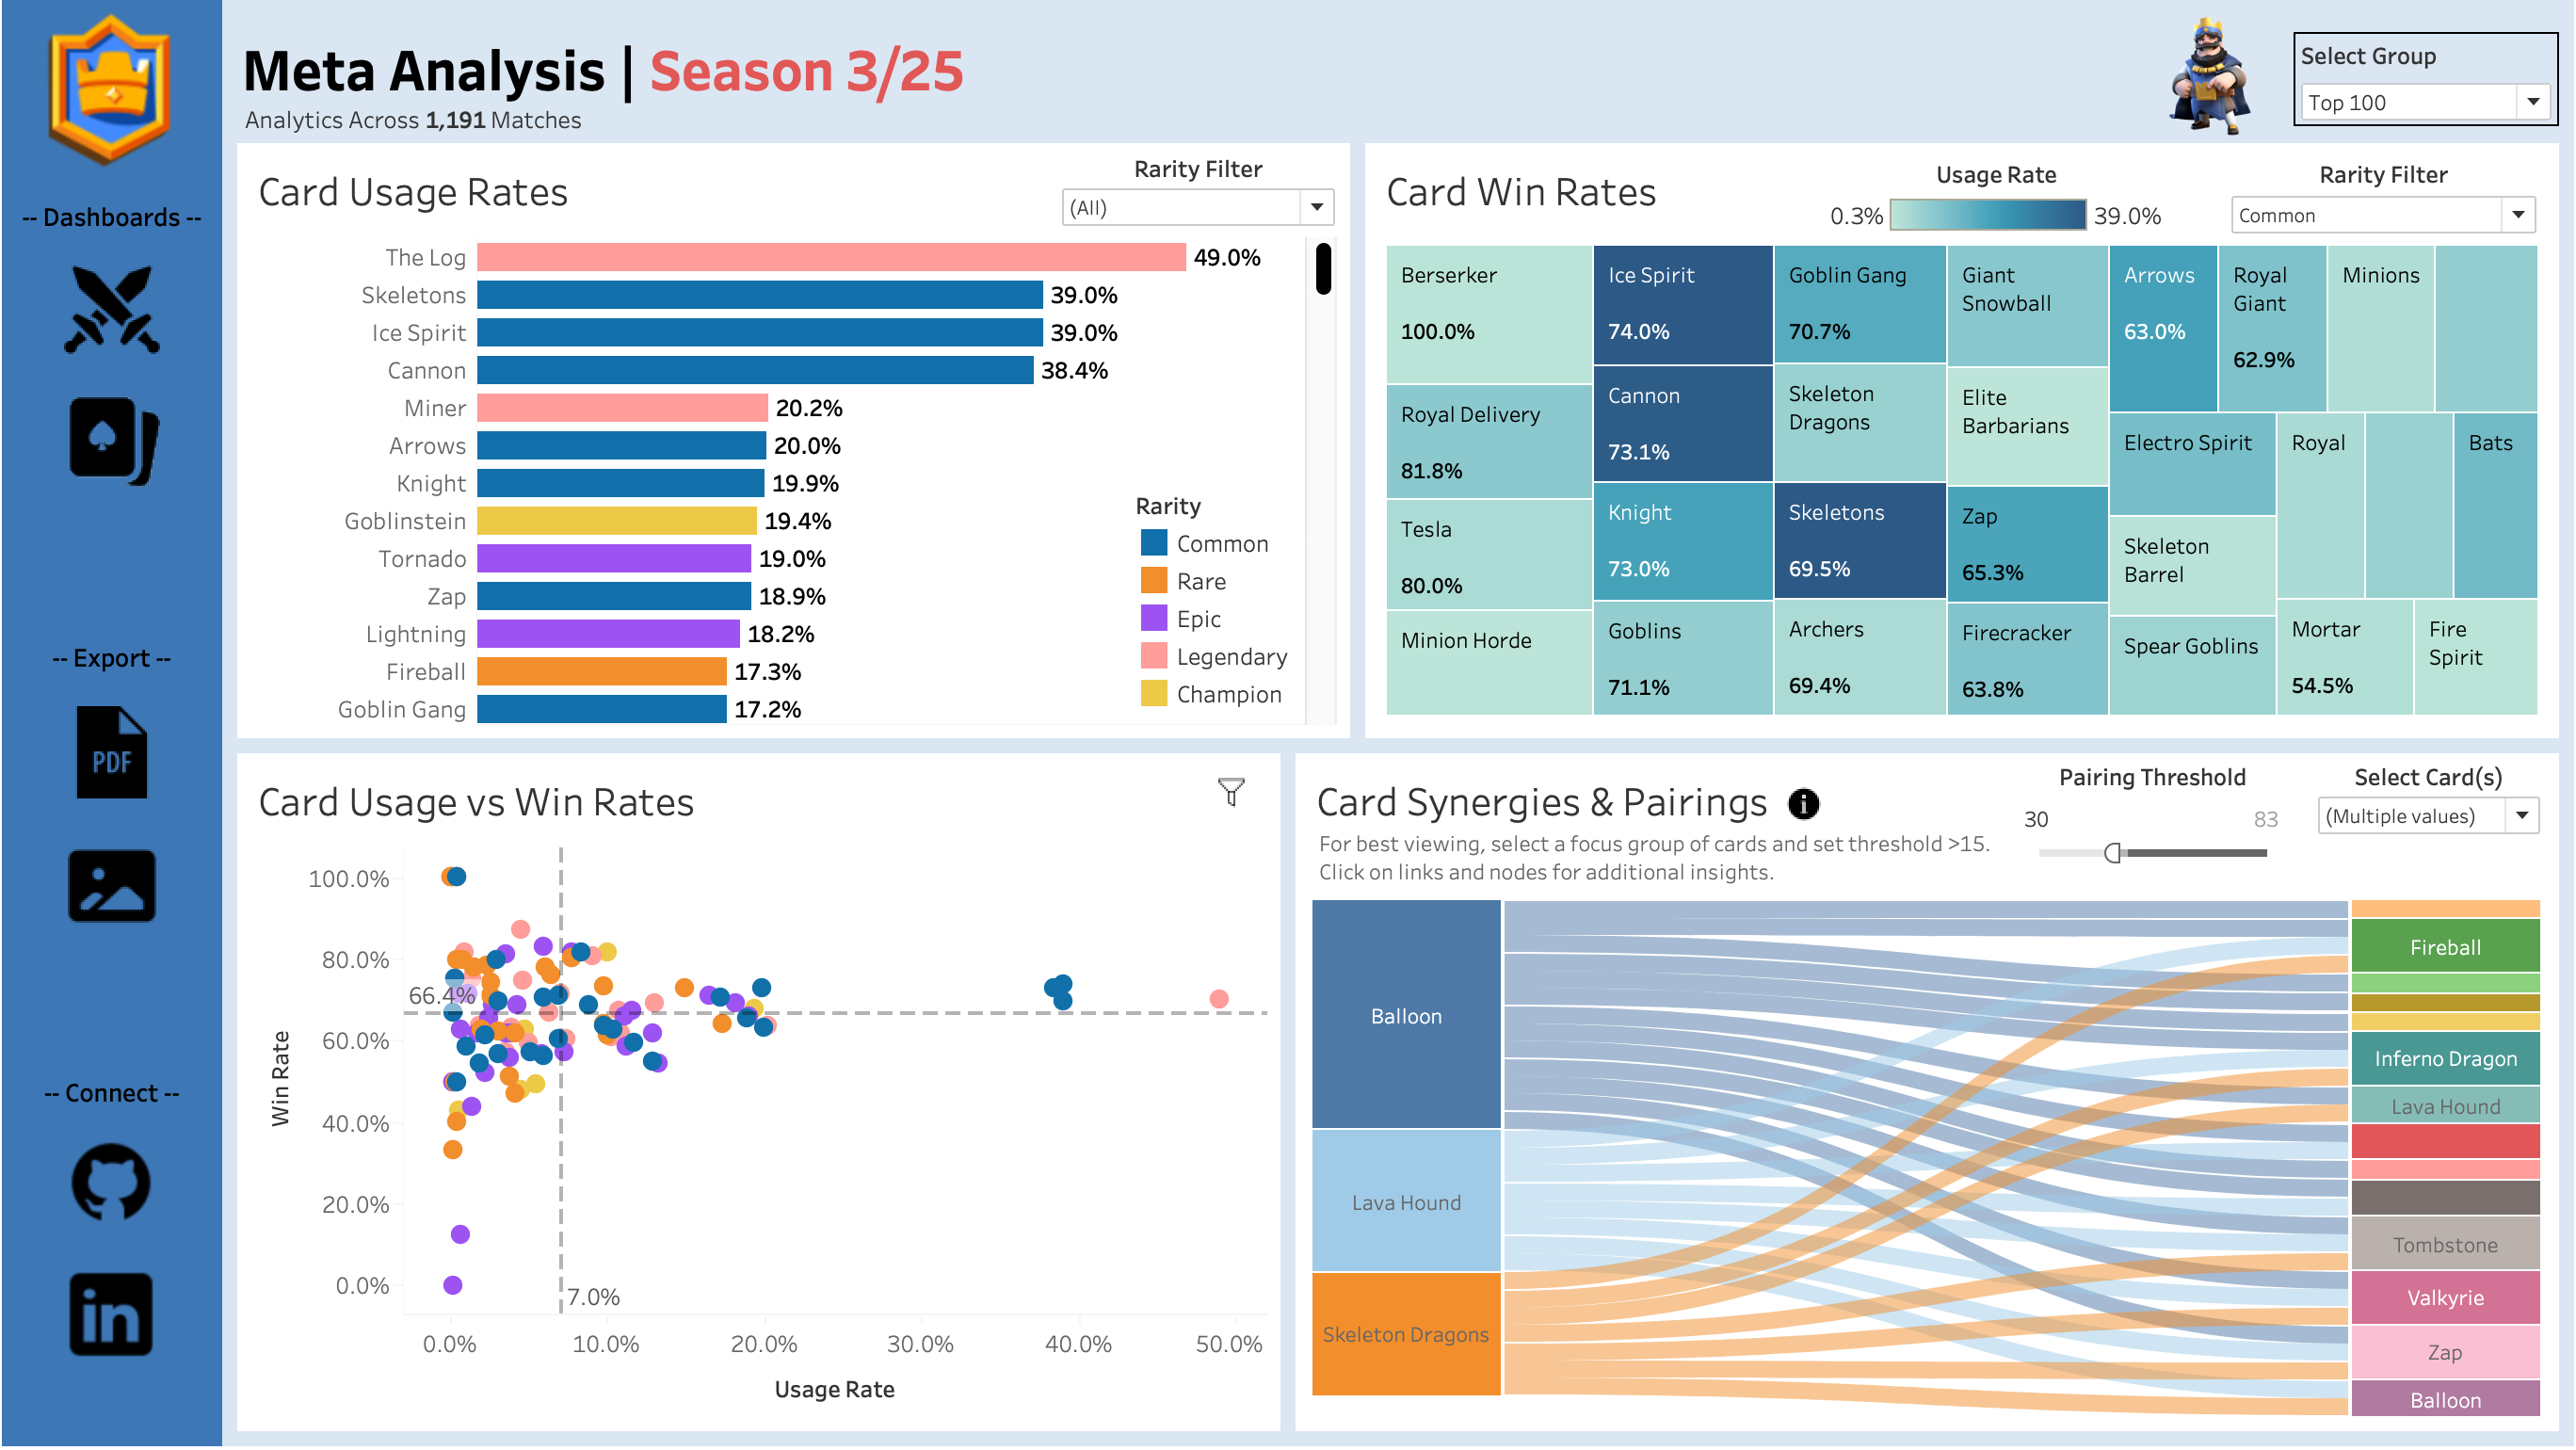

The page's visual inventory and layout, read from the dashboard file:
{"tool":"tableau","page":{"name":"Card Meta Dashboard","canvas":[1366,768],"ordinal":1},"visuals":[{"type":"image","param":"/Users/yishakali/Desktop/Data Sci/06. Personal Projects/Clash Royale API Project","box":[0,0,117,96]},{"type":"text","box":[117,0,997,72]},{"type":"blank","box":[1114,0,252,72]},{"type":"parameter","param":"[Parameters].[Parameter 3]","box":[1217,17,141,50]},{"type":"worksheet","title":"Match Count - Meta","mark":"Automatic","box":[113,39,230,40]},{"type":"worksheet","title":"Card Usage Rates","mark":"Automatic","rows":["Calculation_6134817542512132096"],"cols":["Calculation_5329447265022193666"],"box":[117,72,603,324]},{"type":"worksheet","title":"Card Win Rates","mark":"Automatic","box":[720,72,646,324]},{"type":"filter","title":"Card Usage Rates","param":"[federated.0pqyewb1og9j6011yo6wl1lbfwmh].[none:Calculation_6134817542513160193:n","box":[560,81,151,41]},{"type":"legend","title":"Card Win Rates","param":"[federated.0pqyewb1og9j6011yo6wl1lbfwmh].[usr:Calculation_5329447265022193666:qk","box":[967,84,185,39]},{"type":"filter","title":"Card Win Rates","param":"[federated.0pqyewb1og9j6011yo6wl1lbfwmh].[none:Calculation_6134817542513160193:n","box":[1181,84,168,42]},{"type":"text","box":[0,96,117,37]},{"type":"dashboard-object","box":[0,133,117,63]},{"type":"dashboard-object","box":[0,196,117,75]},{"type":"legend","title":"Card Usage Rates","param":"[federated.0pqyewb1og9j6011yo6wl1lbfwmh].[none:Calculation_6134817542513160193:n","box":[602,260,104,118]},{"type":"blank","box":[0,284,117,43]},{"type":"text","box":[0,327,117,44]},{"type":"dashboard-object","box":[0,371,117,57]},{"type":"worksheet","title":"Usage vs Win Rate","mark":"Circle","rows":["Calculation_5683894629482299393"],"cols":["Calculation_5329447265022193666"],"box":[117,396,566,372]},{"type":"worksheet","title":"Synergy Sankey","box":[683,396,683,372]},{"type":"filter","title":"Synergy Sankey","param":"[federated.0pqyewb1og9j6011yo6wl1lbfwmh].[usr:Calculation_5462444191520907264:qk","box":[1069,404,147,57]},{"type":"filter","title":"Synergy Sankey","param":"[federated.0pqyewb1og9j6011yo6wl1lbfwmh].[none:Calculation_6134817542512132096:n","box":[1227,404,124,41]},{"type":"dashboard-object","box":[643,413,20,16]},{"type":"dashboard-object","box":[948,418,18,19]},{"type":"blank","box":[0,428,117,10]},{"type":"text","box":[697,433,363,46]},{"type":"dashboard-object","box":[0,438,117,65]},{"type":"text","box":[0,562,117,36]},{"type":"filter","title":"Usage vs Win Rate","param":"[federated.0pqyewb1og9j6011yo6wl1lbfwmh].[none:Calculation_6134817542513160193:n","box":[508,591,163,48]},{"type":"image","param":"/Users/yishakali/Desktop/Data Sci/06. Personal Projects/Clash Royale API Project","box":[0,598,117,60]},{"type":"filter","title":"Usage vs Win Rate","param":"[federated.0pqyewb1og9j6011yo6wl1lbfwmh].[usr:Calculation_5683894629482299393:qk","box":[508,639,163,63]},{"type":"blank","box":[0,658,117,10]},{"type":"image","param":"/Users/yishakali/Desktop/Data Sci/06. Personal Projects/Clash Royale API Project","box":[0,668,117,60]}]}

Visuals, with their boxes on the page's 1366x768 design canvas (x1, y1, x2, y2). These are canvas units, not pixel positions in the 2576x1450 screenshot, which may show the page scaled, cropped or inside an application window:
image: x1=0, y1=0, x2=117, y2=96
text: x1=117, y1=0, x2=1114, y2=72
blank: x1=1114, y1=0, x2=1366, y2=72
parameter: x1=1217, y1=17, x2=1358, y2=67
"Match Count - Meta" worksheet: x1=113, y1=39, x2=343, y2=79
"Card Usage Rates" worksheet: x1=117, y1=72, x2=720, y2=396
"Card Win Rates" worksheet: x1=720, y1=72, x2=1366, y2=396
"Card Usage Rates" filter: x1=560, y1=81, x2=711, y2=122
"Card Win Rates" legend: x1=967, y1=84, x2=1152, y2=123
"Card Win Rates" filter: x1=1181, y1=84, x2=1349, y2=126
text: x1=0, y1=96, x2=117, y2=133
dashboard-object: x1=0, y1=133, x2=117, y2=196
dashboard-object: x1=0, y1=196, x2=117, y2=271
"Card Usage Rates" legend: x1=602, y1=260, x2=706, y2=378
blank: x1=0, y1=284, x2=117, y2=327
text: x1=0, y1=327, x2=117, y2=371
dashboard-object: x1=0, y1=371, x2=117, y2=428
"Usage vs Win Rate" worksheet (Circle marks): x1=117, y1=396, x2=683, y2=768
"Synergy Sankey" worksheet: x1=683, y1=396, x2=1366, y2=768
"Synergy Sankey" filter: x1=1069, y1=404, x2=1216, y2=461
"Synergy Sankey" filter: x1=1227, y1=404, x2=1351, y2=445
dashboard-object: x1=643, y1=413, x2=663, y2=429
dashboard-object: x1=948, y1=418, x2=966, y2=437
blank: x1=0, y1=428, x2=117, y2=438
text: x1=697, y1=433, x2=1060, y2=479
dashboard-object: x1=0, y1=438, x2=117, y2=503
text: x1=0, y1=562, x2=117, y2=598
"Usage vs Win Rate" filter: x1=508, y1=591, x2=671, y2=639
image: x1=0, y1=598, x2=117, y2=658
"Usage vs Win Rate" filter: x1=508, y1=639, x2=671, y2=702
blank: x1=0, y1=658, x2=117, y2=668
image: x1=0, y1=668, x2=117, y2=728
